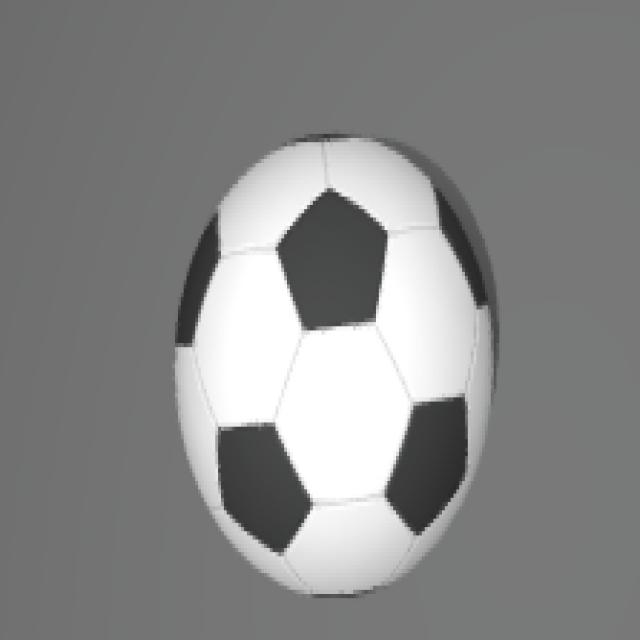ball: (174, 136, 500, 601)
